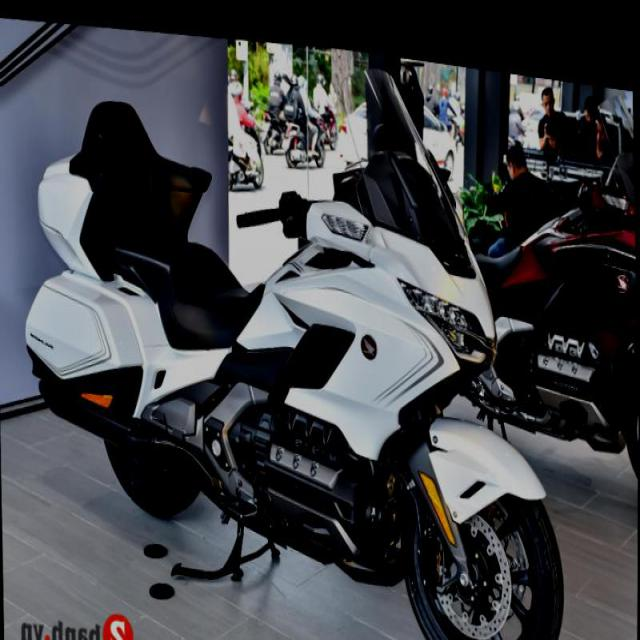Gold Wing: (17, 5, 567, 639)
